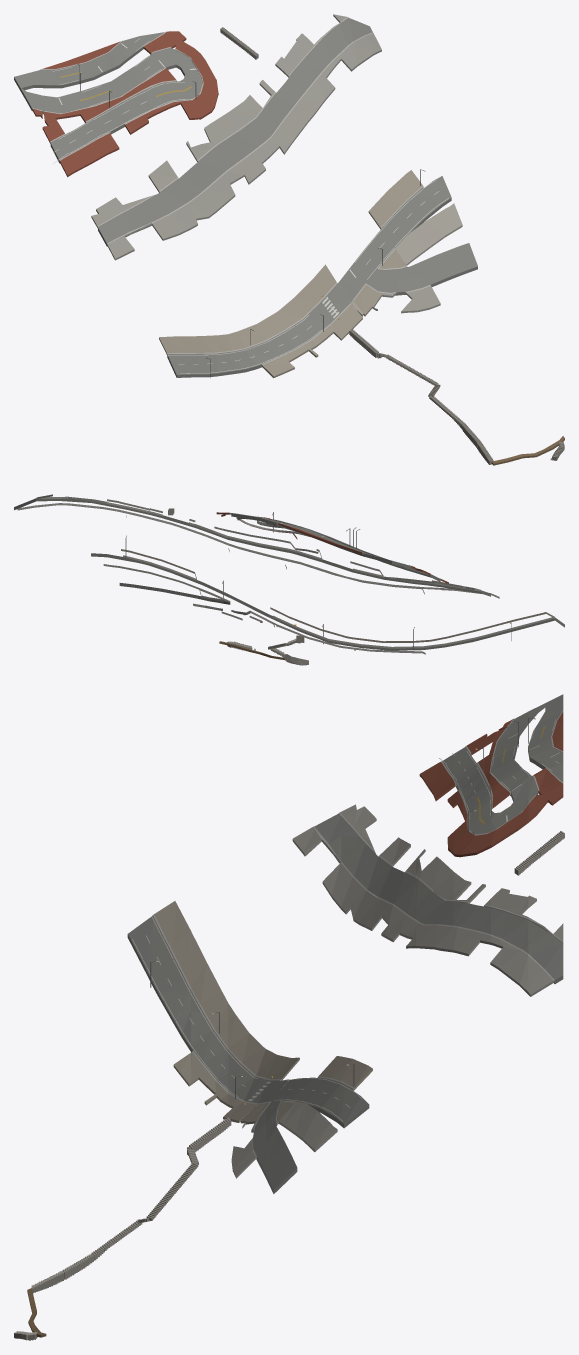
3 views of the same model, one above another, from view 1: azimuth 30°, elevation 25°; view 2: azimuth 150°, elevation 25°; view 3: azimuth 270°, elevation 25° (orthographic). The views are drawn at different scales.
Bounding box in the file's own units: 150 × 129 × 147.
